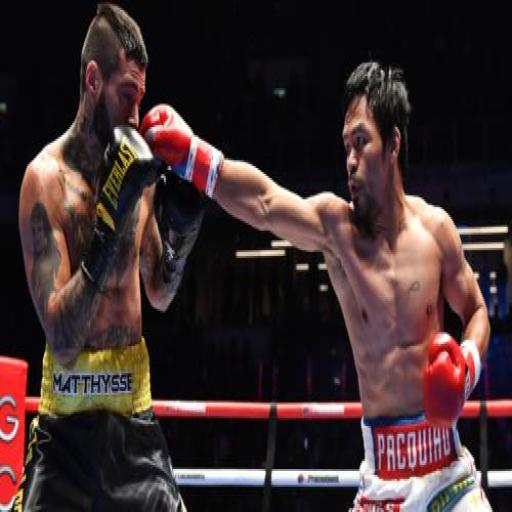boxing: (136, 57, 494, 510), (0, 15, 230, 512)
